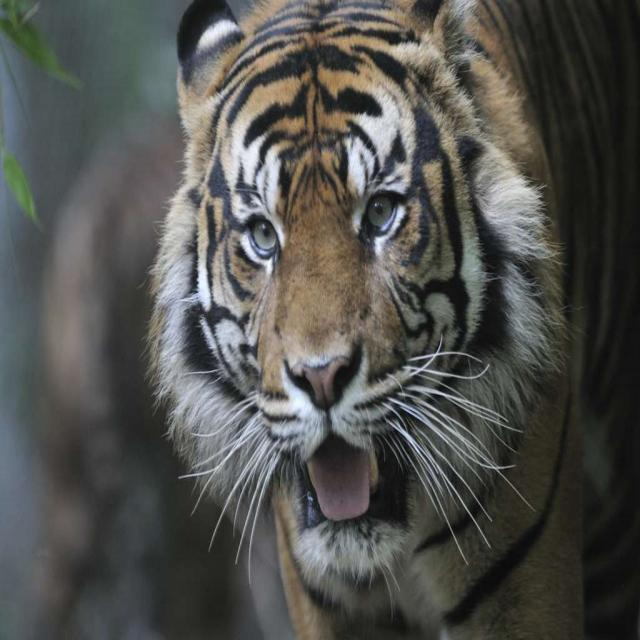Tiger: (138, 0, 639, 639)
